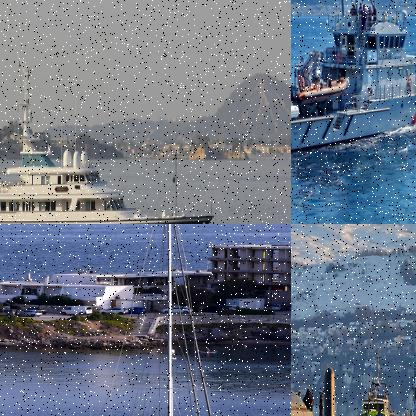Merchant Ship: (407, 10, 415, 17)
Patrol Boat: (291, 0, 415, 160), (354, 354, 399, 415)
Sails Boat: (57, 224, 229, 415)
Submarine: (291, 224, 356, 415)
Yacht: (0, 54, 214, 223)
